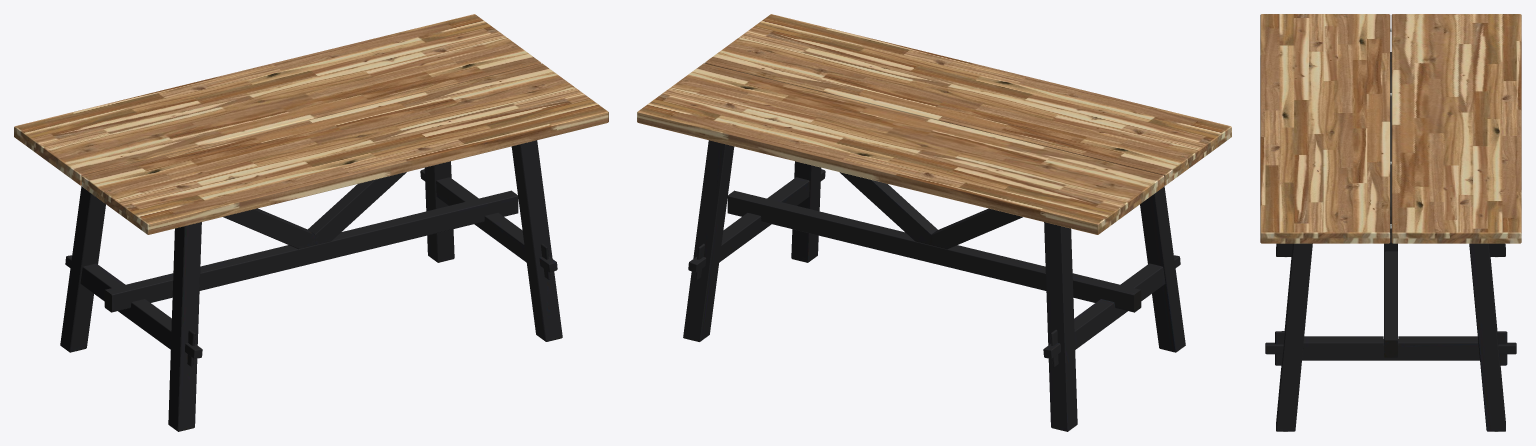
File: skogsta_sto_00452643.glb
The picture shows the model from 3 angles, left to right: view 1: azimuth 30°, elevation 25°; view 2: azimuth 150°, elevation 25°; view 3: azimuth 270°, elevation 25°; orthographic projection. The views are drawn at different scales.
Visible parts, largest first — view 1: skogsta_sto_00452643; view 2: skogsta_sto_00452643; view 3: skogsta_sto_00452643.
Boxes of the visible parts, x1=… form: skogsta_sto_00452643: x1=14, y1=14, x2=608, y2=431; skogsta_sto_00452643: x1=637, y1=14, x2=1231, y2=431; skogsta_sto_00452643: x1=1260, y1=14, x2=1521, y2=431.
Size of the model in its own units: 1.6 by 0.743 by 0.8052.
1 material, 1 textured.
